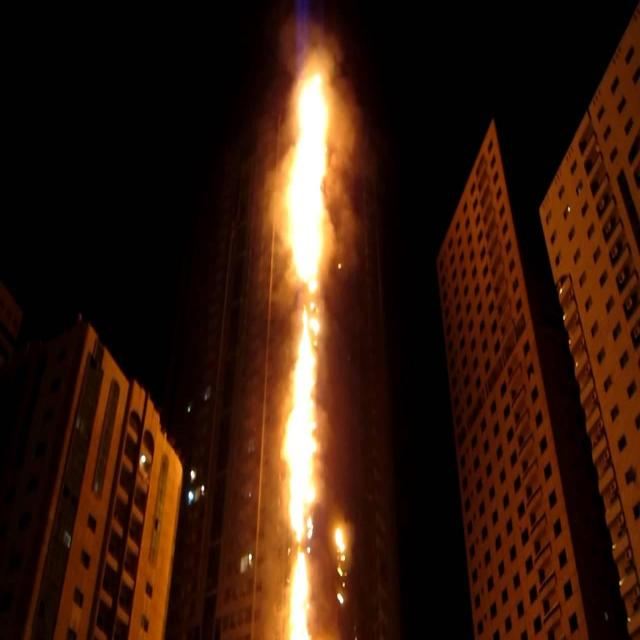Fire: (285, 26, 348, 640)
